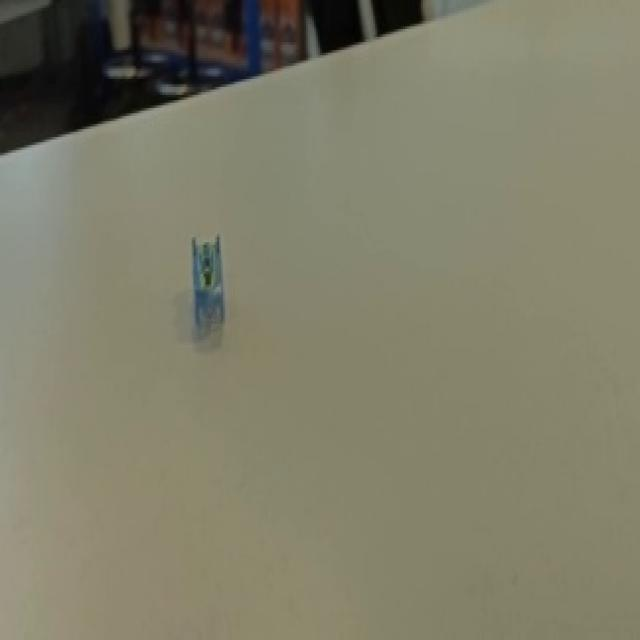3_NanoBug_Celeste: (160, 209, 279, 354)
